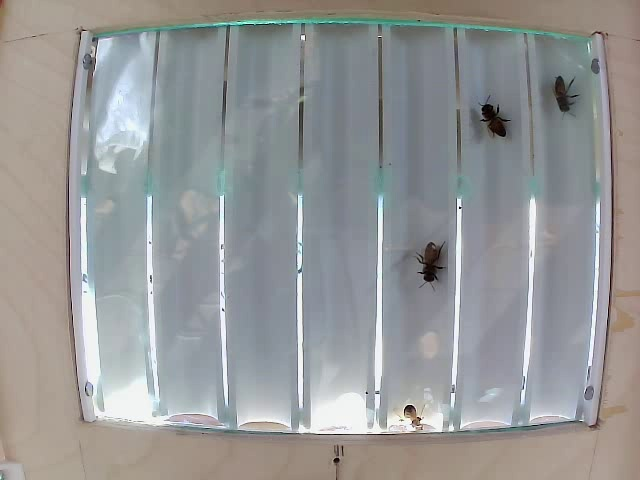bee: (544, 72, 577, 126), (414, 237, 446, 290), (476, 97, 514, 138)
